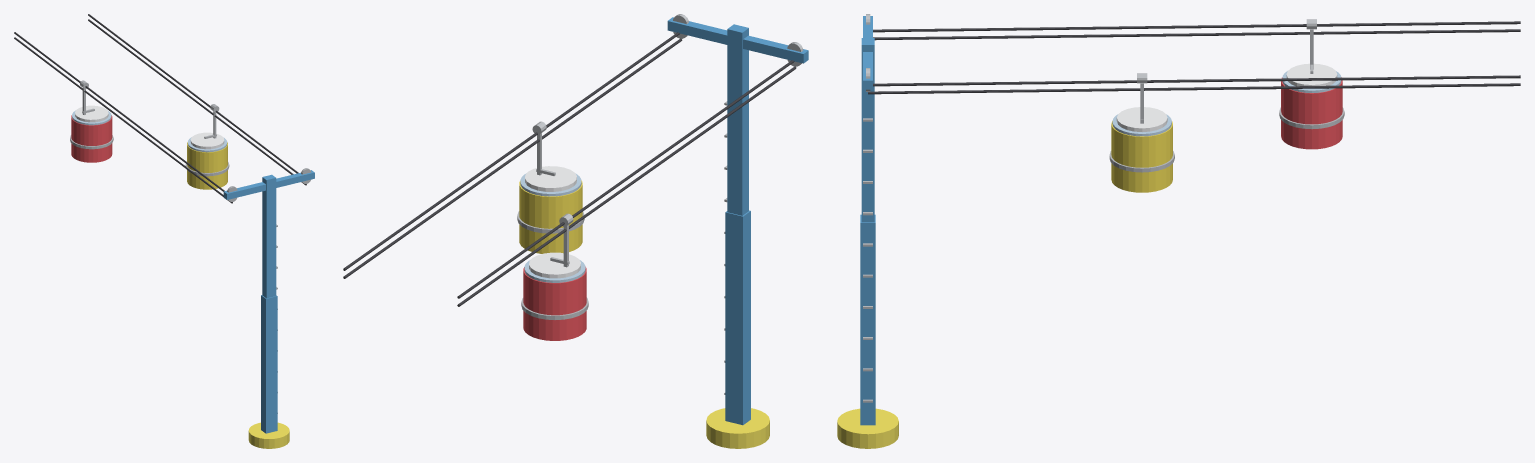
The model's file is state-fair-skyride-line-section.glb.
The picture shows the model from 3 angles, left to right: view 1: azimuth 30°, elevation 25°; view 2: azimuth 150°, elevation 25°; view 3: azimuth 270°, elevation 25°; orthographic projection. The views are drawn at different scales.
Parts seen in each view (by area): view 1: SRL_PoleLow1, SRL_PoleHigh1, SRL_CabinBody_ret, SRL_CabinBody_out, SRL_PoleBase1, SRL_Cross1, SRL_Cable1, SRL_Cable3, SRL_Cable0, SRL_Cable2, SRL_CabinRoof_out, SRL_CabinRoof_ret; view 2: SRL_PoleLow1, SRL_PoleHigh1, SRL_CabinBody_ret, SRL_CabinBody_out, SRL_PoleBase1, SRL_Cross1, SRL_Cable3, SRL_Cable1, SRL_Cable0, SRL_Cable2, SRL_CabinRoof_out, SRL_CabinRoof_ret; view 3: SRL_CabinBody_out, SRL_CabinBody_ret, SRL_PoleLow1, SRL_Cable3, SRL_Cable1, SRL_Cable2, SRL_Cable0, SRL_PoleHigh1, SRL_PoleBase1, SRL_CabinRoof_out, SRL_CabinRoof_ret.
Part boxes in pixels (x1,y1,x2,y2): SRL_PoleLow1: (261,295,277,433); SRL_PoleHigh1: (262,174,276,298); SRL_CabinBody_ret: (71,115,112,162); SRL_CabinBody_out: (187,142,227,189); SRL_PoleBase1: (248,422,289,448); SRL_Cross1: (223,170,314,199); SRL_Cable1: (14,37,232,203); SRL_Cable3: (88,19,306,185); SRL_Cable0: (14,32,224,191); SRL_Cable2: (88,14,298,173); SRL_CabinRoof_out: (190,132,224,149); SRL_CabinRoof_ret: (75,105,108,122); SRL_PoleLow1: (725,210,750,425); SRL_PoleHigh1: (727,24,748,215); SRL_CabinBody_ret: (523,266,586,340); SRL_CabinBody_out: (519,180,582,253); SRL_PoleBase1: (706,408,769,448); SRL_Cross1: (667,17,808,63); SRL_Cable3: (343,38,682,278); SRL_Cable1: (457,66,796,306); SRL_Cable0: (457,60,794,298); SRL_Cable2: (343,32,679,270); SRL_CabinRoof_out: (525,166,576,191); SRL_CabinRoof_ret: (529,252,580,278); SRL_CabinBody_out: (1111,121,1172,192); SRL_CabinBody_ret: (1281,77,1342,149); SRL_PoleLow1: (860,214,875,425); SRL_Cable3: (868,83,1520,94); SRL_Cable1: (873,29,1520,40); SRL_Cable2: (873,75,1520,86); SRL_Cable0: (873,21,1520,32); SRL_PoleHigh1: (861,38,874,222); SRL_PoleBase1: (837,408,898,448); SRL_CabinRoof_out: (1116,107,1167,131); SRL_CabinRoof_ret: (1286,63,1337,86).
Size of the model in its own units: 4.63 by 12.01 by 18.85.
